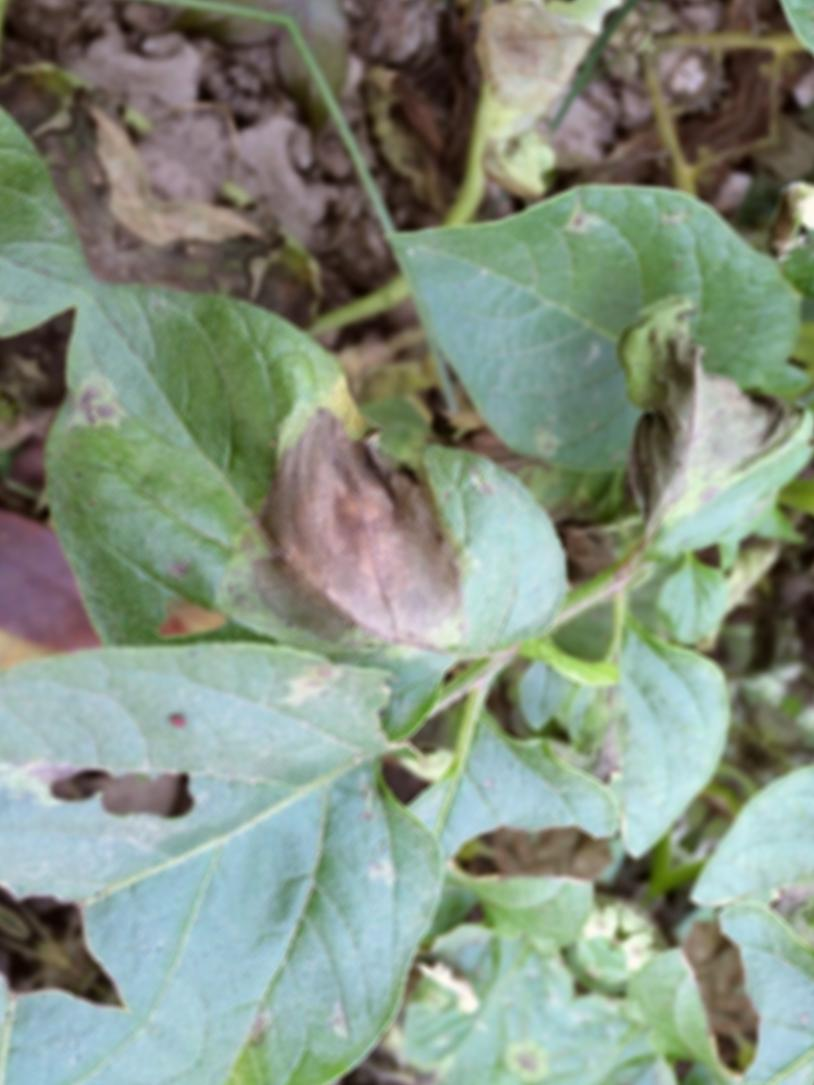Tomato leaf late blight: (187, 321, 637, 742), (527, 288, 814, 614)
